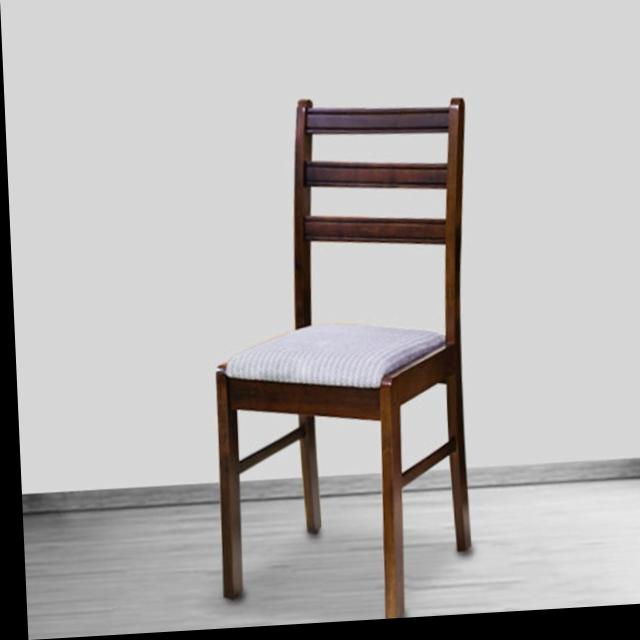Chair: (198, 94, 483, 631)
